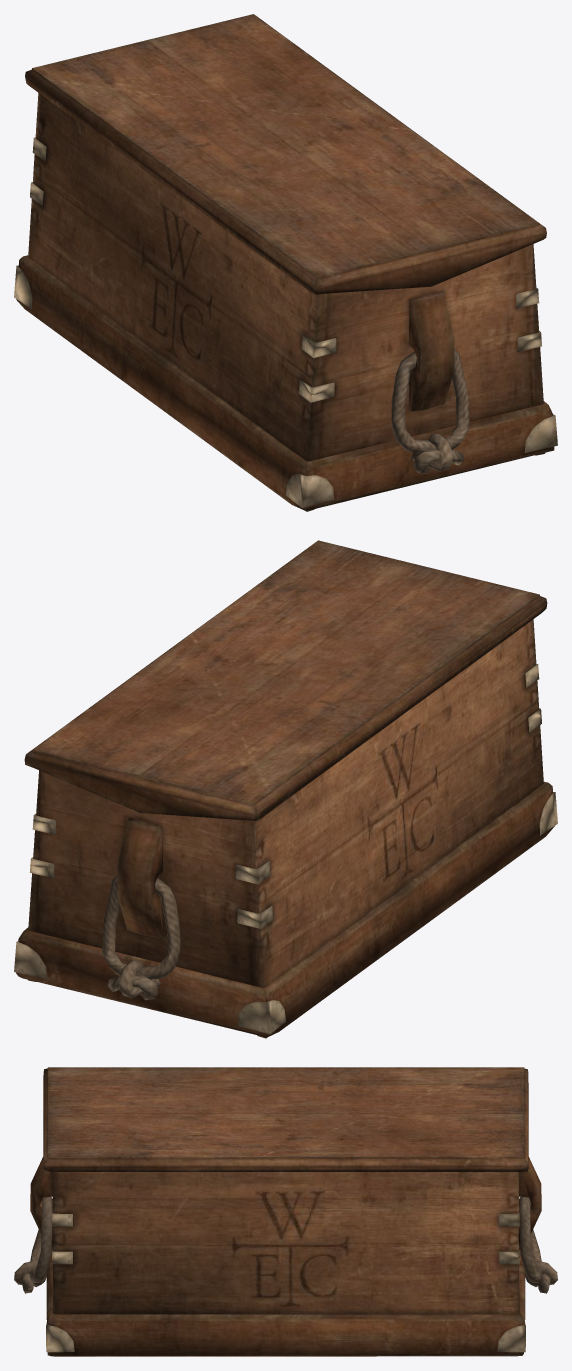
The model's file is wooden_crate_02.glb.
3 renders of one model, top to bottom at view 1: azimuth 30°, elevation 25°; view 2: azimuth 150°, elevation 25°; view 3: azimuth 270°, elevation 25°, orthographic. The views are drawn at different scales.
Parts seen in each view (by area): view 1: lod0; view 2: lod0; view 3: lod0.
Boxes of the visible parts, x1,y1,x2,y2 form: lod0: [14, 14, 557, 511]; lod0: [14, 540, 557, 1038]; lod0: [14, 1067, 557, 1356].
Size of what is drawn, in the model's own units: 0.5274 by 0.4633 by 1.17.
1 material, 1 textured.
